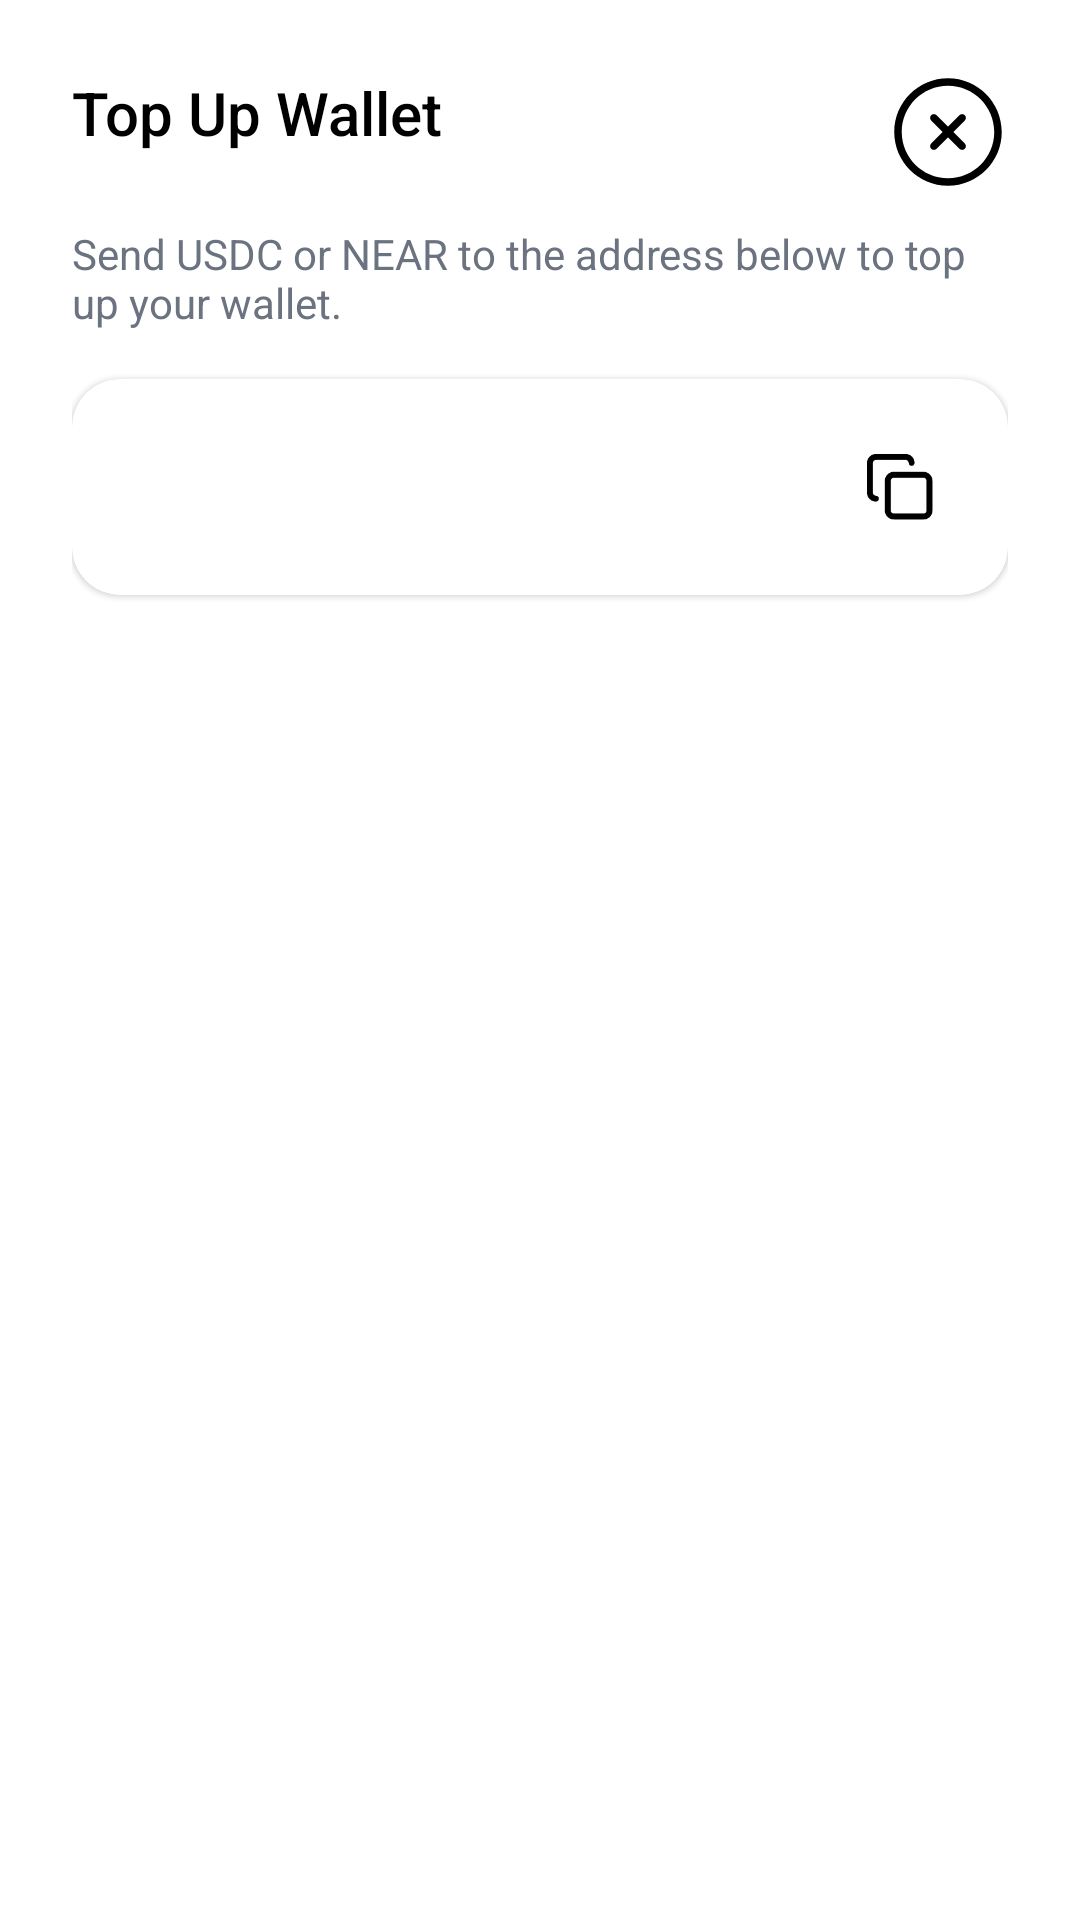

Screen size 1080px x 1920px. Icon name, then its box in pixels as (x1, y1, x2, y2):
close: (894, 78, 1002, 186)
Copy address: (867, 454, 933, 520)
